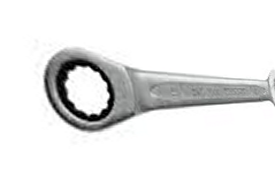wrench: (53, 32, 275, 139)
